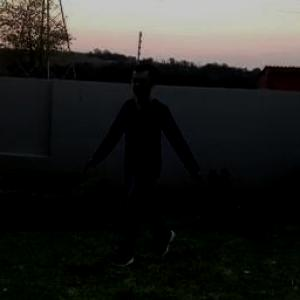land: (84, 56, 221, 286)
